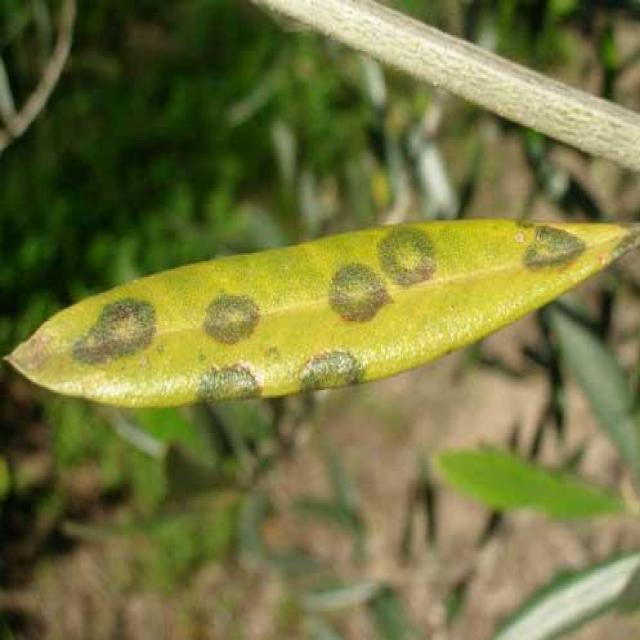Peacock Eye: (5, 220, 639, 406)
